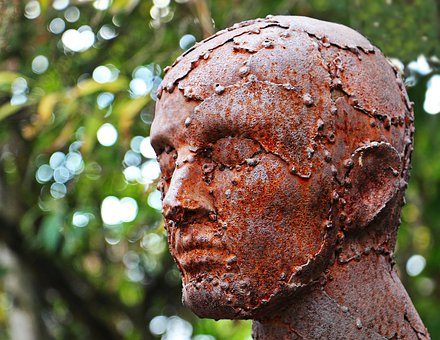rust: (150, 18, 426, 340)
